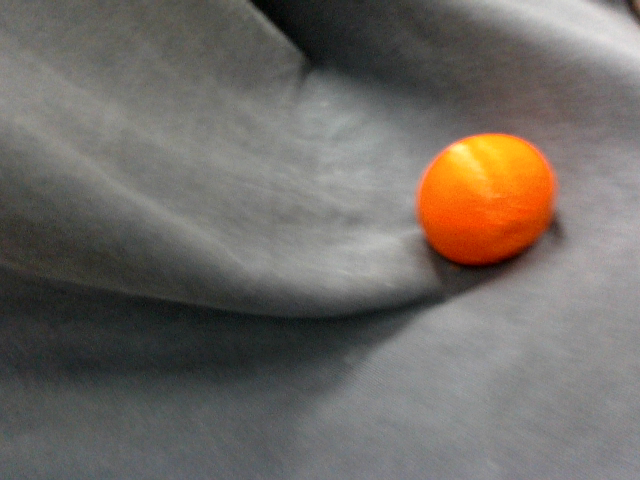orange: (413, 131, 560, 268)
